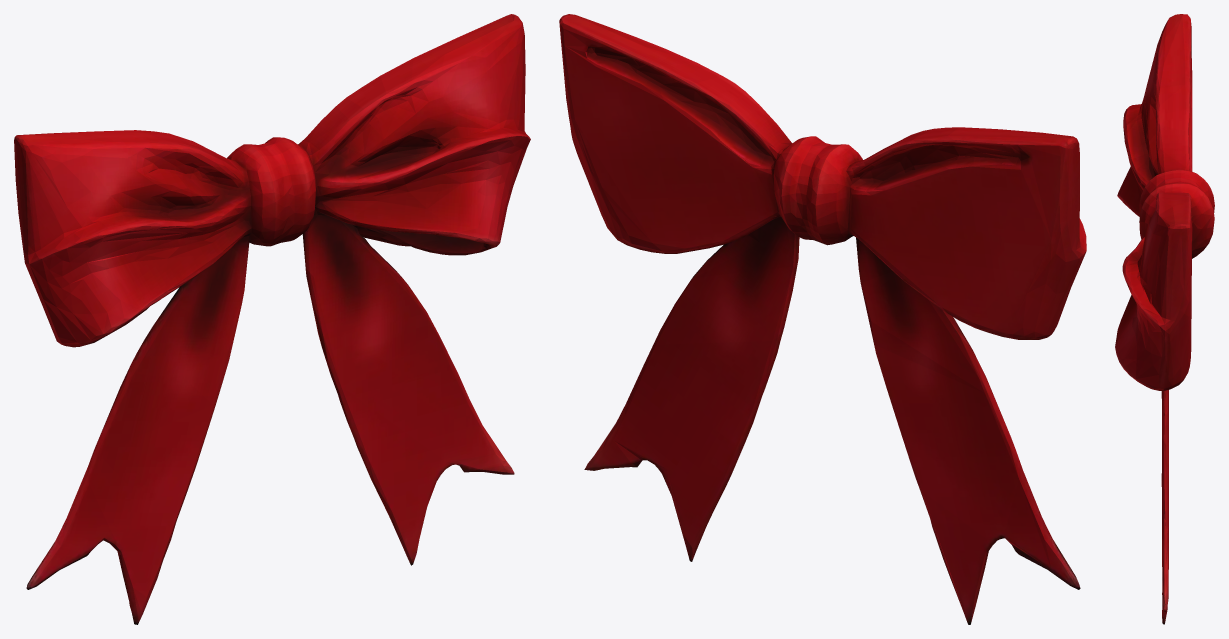
The picture shows the model from 3 angles, left to right: view 1: azimuth 30°, elevation 25°; view 2: azimuth 150°, elevation 25°; view 3: azimuth 270°, elevation 25°; orthographic projection. The views are drawn at different scales.
Parts seen in each view (by area): view 1: geometry_0; view 2: geometry_0; view 3: geometry_0.
Part boxes in pixels (x1,y1,x2,y2): geometry_0: [14, 14, 530, 624]; geometry_0: [559, 14, 1086, 624]; geometry_0: [1115, 14, 1214, 624].
Bounding box in the file's own units: 0.9996 × 0.9794 × 0.1975.
Materials: 1 (1 with a texture image).
